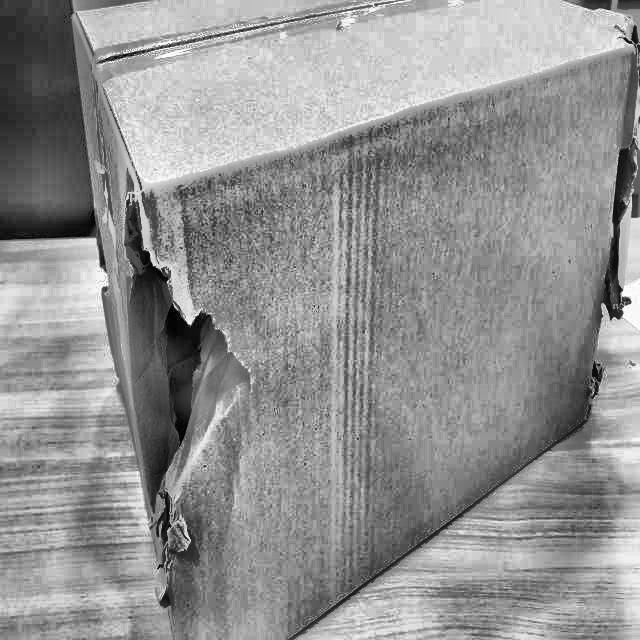box: (55, 0, 639, 639)
hole: (115, 207, 265, 611), (584, 98, 640, 425)
